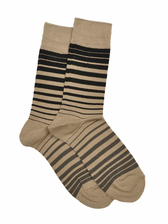sock: (21, 19, 149, 207)
